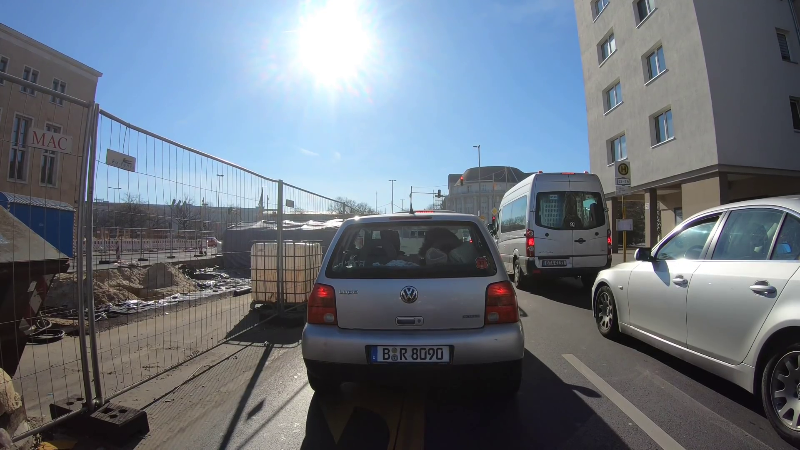Plate: (363, 343, 453, 363), (539, 255, 573, 266)
